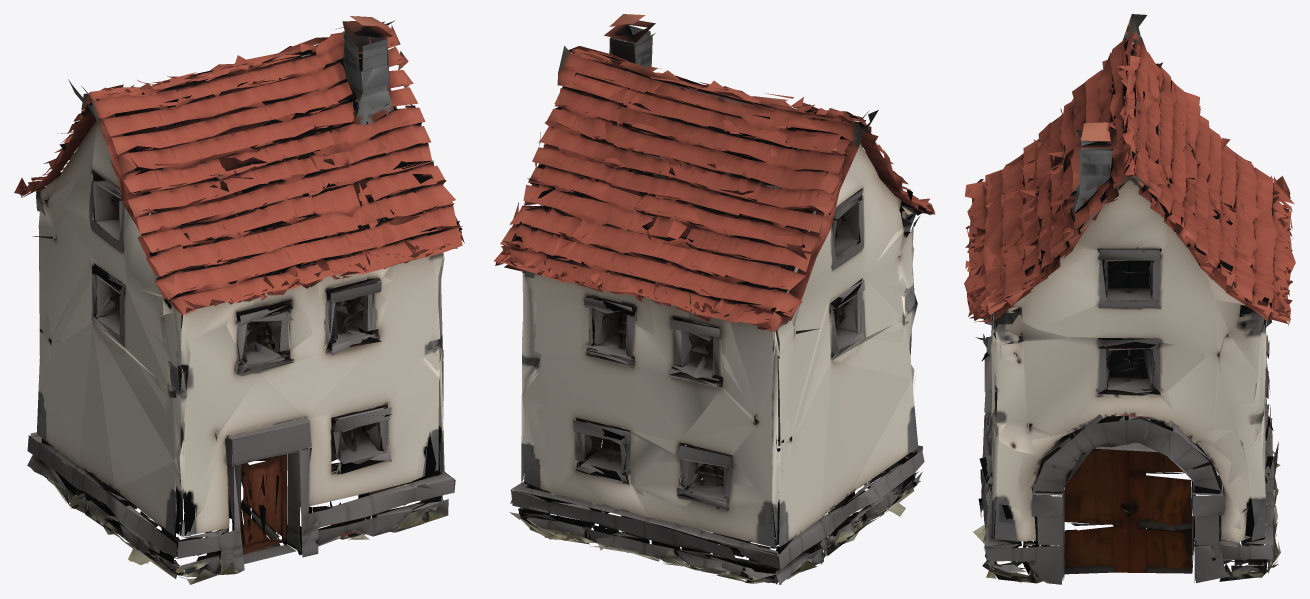
File: house_temperate.glb
3 renders of one model, left to right at view 1: azimuth 30°, elevation 25°; view 2: azimuth 150°, elevation 25°; view 3: azimuth 270°, elevation 25°, orthographic. The views are drawn at different scales.
Parts seen in each view (by area): view 1: Mesh_0; view 2: Mesh_0; view 3: Mesh_0.
Part boxes in pixels (x1,y1,x2,y2): Mesh_0: (14,16,464,584); Mesh_0: (494,14,935,584); Mesh_0: (964,14,1295,584).
Size of the model in its own units: 7.49 by 10.05 by 6.75.
Materials: 1 (1 with a texture image).
